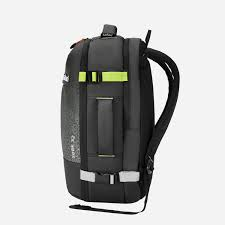backpack: (59, 23, 179, 214)
